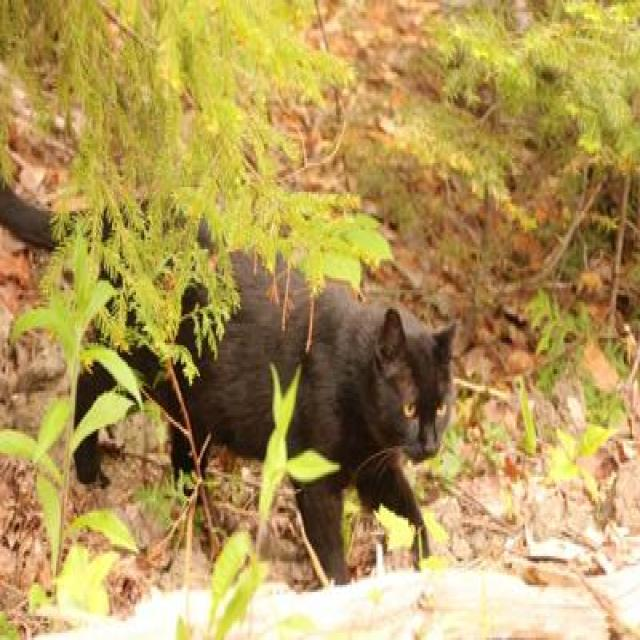cat: (179, 253, 455, 583), (126, 348, 184, 422), (79, 367, 110, 419), (76, 436, 100, 482)
